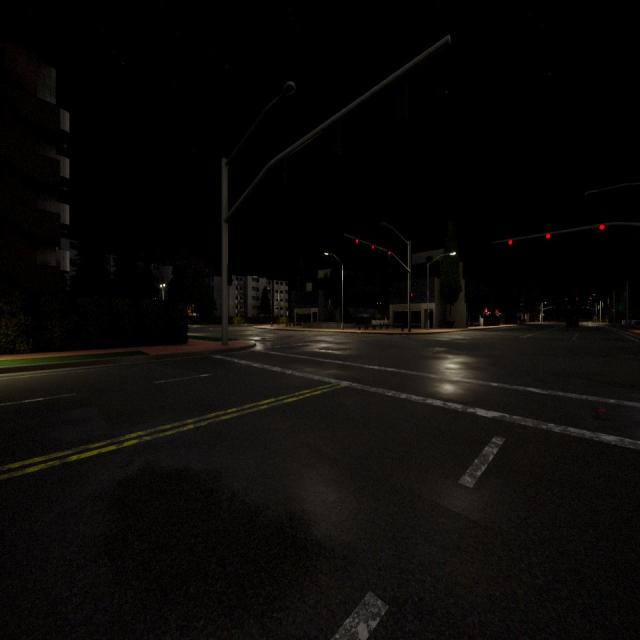Vehicle: (371, 313, 389, 330), (565, 314, 580, 328), (519, 318, 528, 326)
traffic_light: (227, 264, 233, 286), (545, 232, 551, 239), (409, 292, 413, 302), (599, 224, 605, 230), (355, 238, 359, 244), (508, 239, 512, 245), (485, 308, 488, 313), (372, 244, 374, 250), (388, 250, 390, 256), (589, 296, 592, 300), (496, 309, 498, 314), (566, 298, 568, 301), (576, 297, 578, 300), (613, 309, 614, 312)
